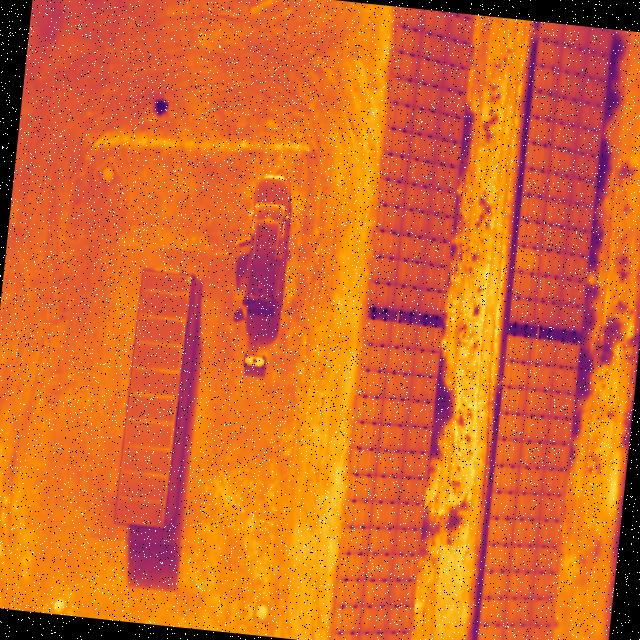Hotspot: (515, 246, 538, 268)
